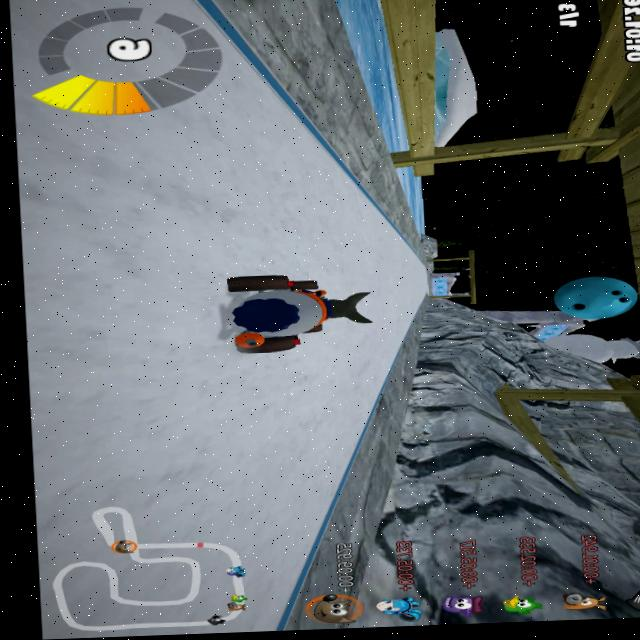player_kart: (216, 271, 375, 356)
track: (30, 358, 278, 640), (19, 185, 374, 280), (13, 98, 274, 198), (15, 0, 234, 107), (28, 274, 218, 365), (268, 352, 357, 459), (264, 110, 336, 188), (271, 461, 334, 515), (269, 512, 315, 558), (351, 350, 389, 386), (377, 258, 421, 288), (383, 298, 423, 327), (373, 287, 426, 299), (377, 240, 410, 259), (373, 221, 398, 240), (377, 325, 402, 344), (419, 269, 432, 293)
